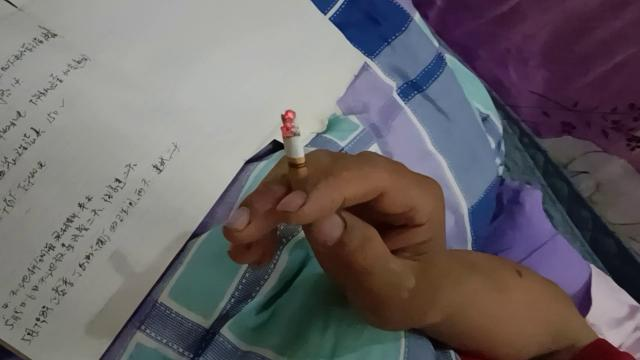Smoking: (280, 109, 316, 214)
